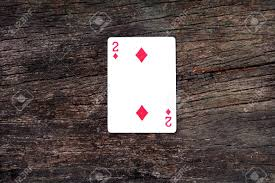two of diamonds: (107, 35, 176, 132)
